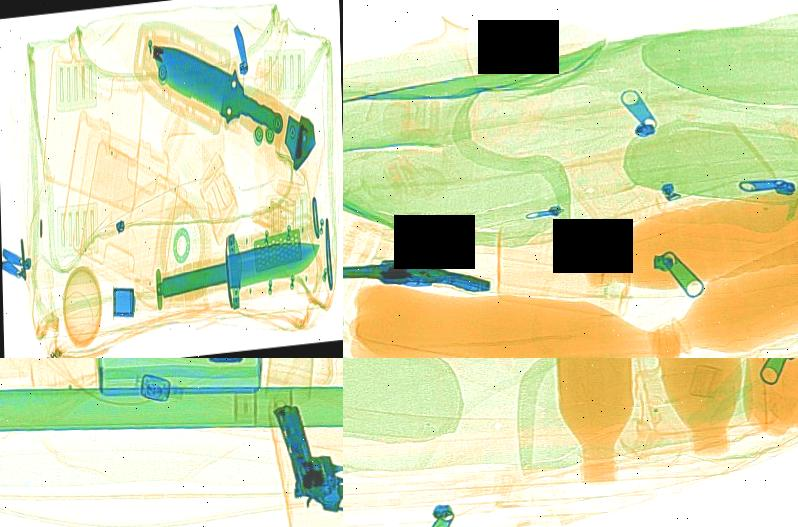Gun: (343, 239, 504, 305), (274, 395, 343, 527)
Knife: (136, 8, 302, 162), (153, 214, 327, 325)
